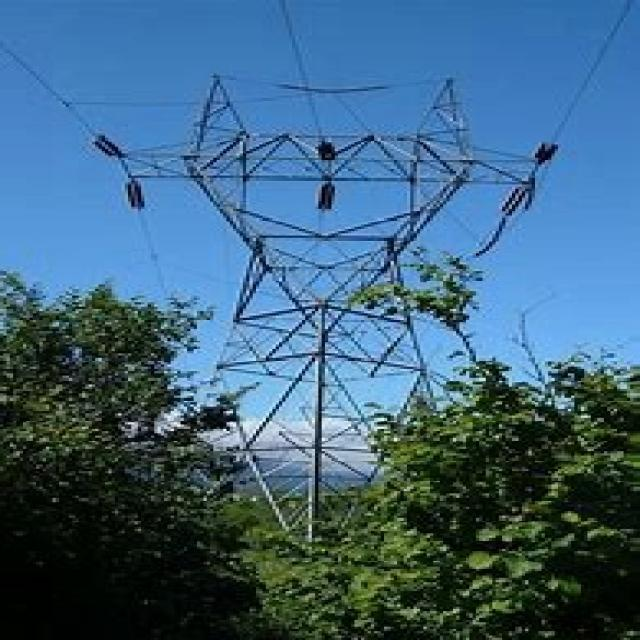utility poles: (355, 255, 609, 440), (137, 293, 299, 473)
